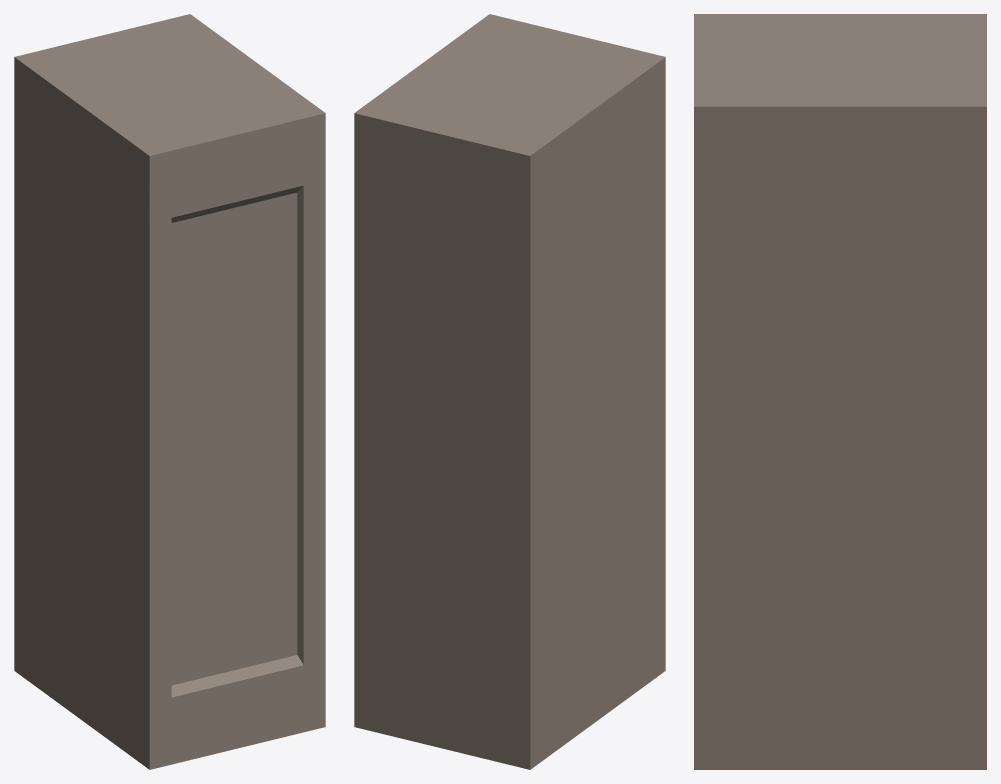
The model's file is Wall-Cabinet-Single-Door-with-Shelves_std_001_W9in.glb.
3 renders of one model, left to right at view 1: azimuth 30°, elevation 25°; view 2: azimuth 150°, elevation 25°; view 3: azimuth 270°, elevation 25°, orthographic. The views are drawn at different scales.
Parts seen in each view (by area): view 1: Wall-Cabinet-Single-Door-with-Shelves.std.001_W9in; view 2: Wall-Cabinet-Single-Door-with-Shelves.std.001_W9in; view 3: Wall-Cabinet-Single-Door-with-Shelves.std.001_W9in.
Part boxes in pixels (left/top/right/bottom): Wall-Cabinet-Single-Door-with-Shelves.std.001_W9in: left=14, top=14, right=325, bottom=769; Wall-Cabinet-Single-Door-with-Shelves.std.001_W9in: left=354, top=14, right=665, bottom=769; Wall-Cabinet-Single-Door-with-Shelves.std.001_W9in: left=694, top=14, right=986, bottom=769.
Size of the model in its own units: 0.2286 by 0.762 by 0.3048.
